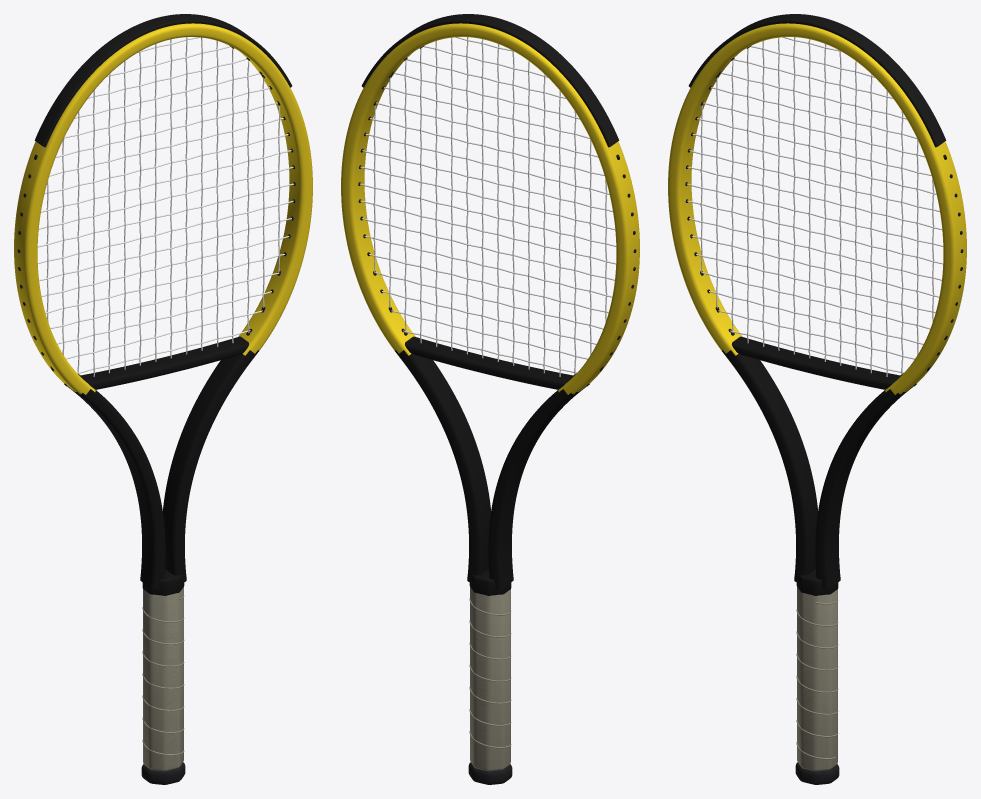
File: babolat-pure-aero-2023.glb
The picture shows the model from 3 angles, left to right: view 1: azimuth 30°, elevation 25°; view 2: azimuth 150°, elevation 25°; view 3: azimuth 330°, elevation 25°; orthographic projection.
Visible parts, largest first — view 1: Frame, Strings, Handle, Bumper, Yoke, GripSeam, ButtCap, Collar; view 2: Frame, Strings, Handle, Bumper, Yoke, GripSeam, ButtCap, Collar; view 3: Frame, Strings, Handle, Bumper, Yoke, GripSeam, ButtCap, Collar.
Part boxes in pixels (bbox=[...]): Frame: bbox=[14, 23, 312, 588]; Strings: bbox=[37, 37, 294, 376]; Handle: bbox=[143, 587, 183, 771]; Bumper: bbox=[34, 14, 292, 147]; Yoke: bbox=[80, 336, 248, 389]; GripSeam: bbox=[142, 595, 184, 755]; ButtCap: bbox=[141, 762, 185, 784]; Collar: bbox=[142, 569, 184, 595]; Frame: bbox=[341, 23, 639, 588]; Strings: bbox=[359, 37, 616, 376]; Handle: bbox=[470, 587, 510, 771]; Bumper: bbox=[361, 14, 619, 147]; Yoke: bbox=[405, 336, 573, 389]; GripSeam: bbox=[469, 598, 511, 748]; ButtCap: bbox=[468, 762, 512, 784]; Collar: bbox=[469, 569, 511, 595]; Frame: bbox=[668, 23, 966, 588]; Strings: bbox=[686, 37, 943, 376]; Handle: bbox=[797, 587, 837, 771]; Bumper: bbox=[688, 14, 946, 147]; Yoke: bbox=[732, 336, 900, 389]; GripSeam: bbox=[796, 600, 838, 759]; ButtCap: bbox=[795, 762, 839, 784]; Collar: bbox=[796, 569, 838, 595].
Size of the model in its own units: 0.2758 by 0.6886 by 0.0327.
6 materials, 1 textured.
